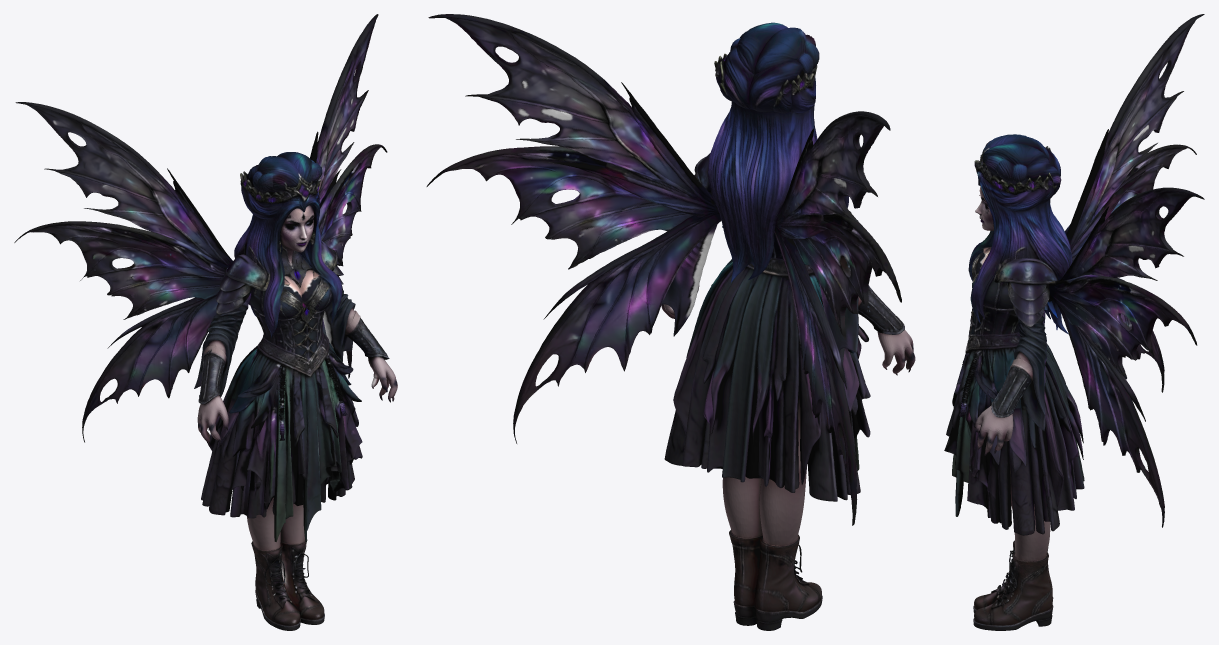
Rendered from dark-fairy-boss_v2.glb.
The picture shows the model from 3 angles, left to right: view 1: azimuth 30°, elevation 25°; view 2: azimuth 150°, elevation 25°; view 3: azimuth 270°, elevation 25°; orthographic projection. The views are drawn at different scales.
Visible parts, largest first — view 1: tmpqkc9s8w0.obj; view 2: tmpqkc9s8w0.obj; view 3: tmpqkc9s8w0.obj.
Part boxes in pixels (x1,y1,x2,y2): tmpqkc9s8w0.obj: (14,14,397,630); tmpqkc9s8w0.obj: (426,14,915,630); tmpqkc9s8w0.obj: (944,14,1204,630).
Bounding box in the file's own units: 1.2 × 1.5 × 0.69.
1 material, 1 textured.
